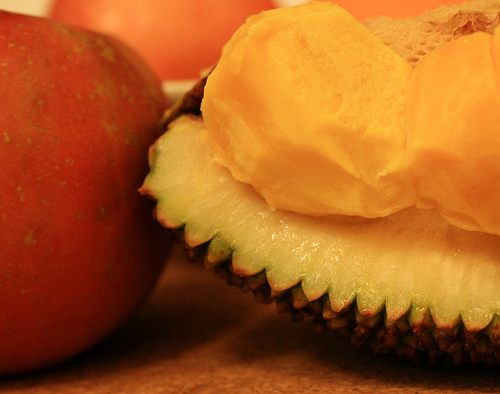jackfruit: (138, 0, 499, 366)
